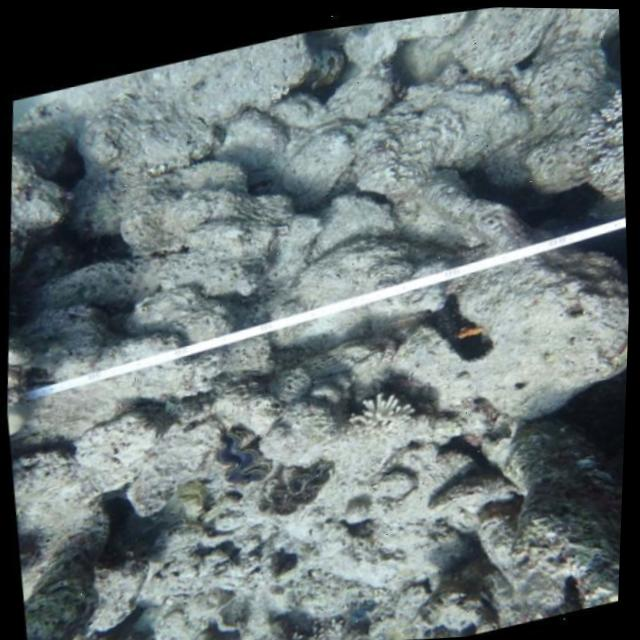Bleached Coral: (543, 75, 630, 217), (330, 361, 429, 470)
